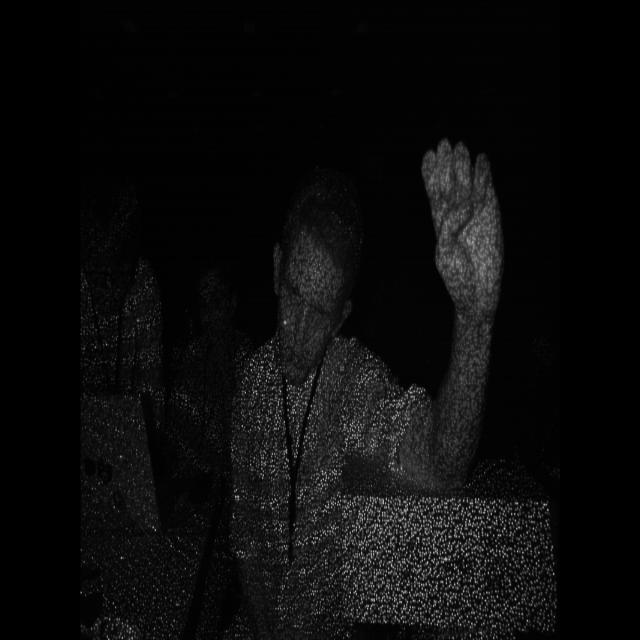E: (406, 126, 532, 323)
